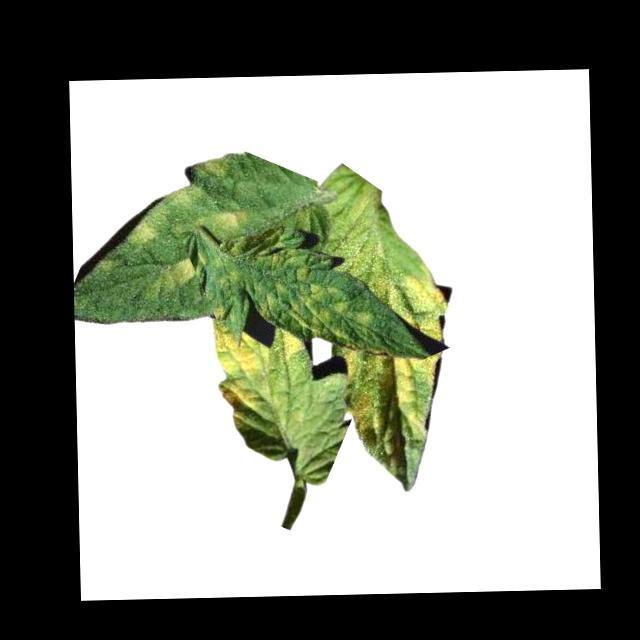Leaf_Mold: (251, 251, 376, 359), (207, 317, 305, 431), (340, 352, 440, 450), (382, 264, 449, 349), (154, 254, 195, 294), (200, 206, 246, 235), (121, 216, 159, 247), (193, 157, 229, 184)
